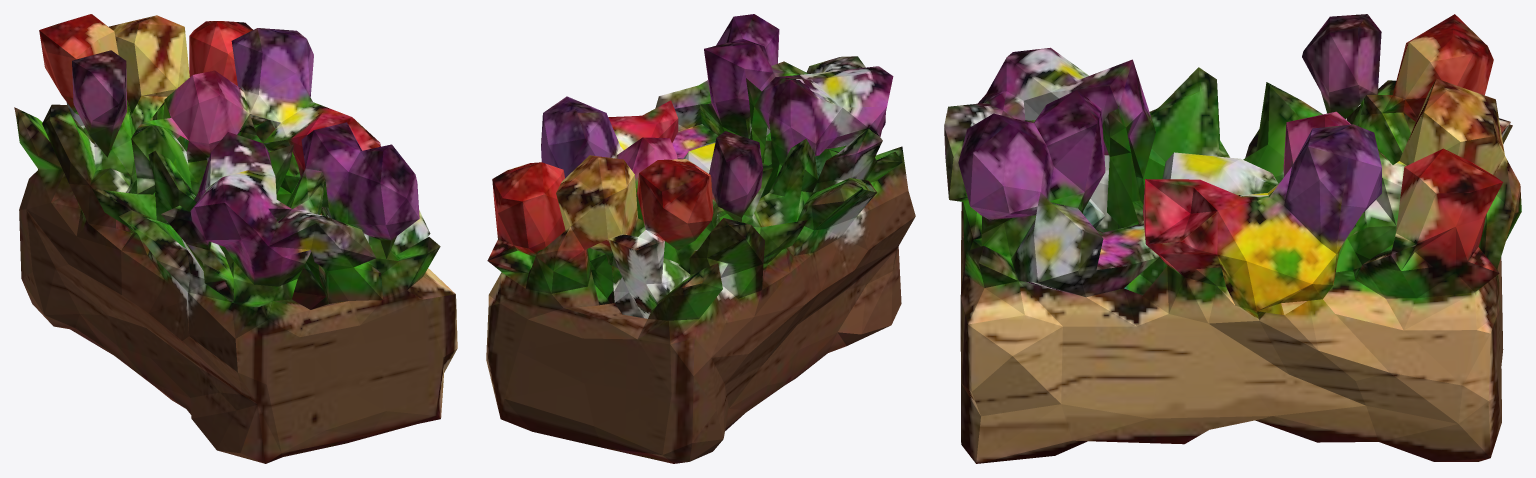
Rendered from cicek_tarhi.glb.
The picture shows the model from 3 angles, left to right: view 1: azimuth 30°, elevation 25°; view 2: azimuth 150°, elevation 25°; view 3: azimuth 270°, elevation 25°; orthographic projection. The views are drawn at different scales.
Visible parts, largest first — view 1: geometry_0; view 2: geometry_0; view 3: geometry_0.
Part boxes in pixels (x1,y1,x2,y2): geometry_0: [14, 14, 457, 463]; geometry_0: [486, 14, 915, 463]; geometry_0: [944, 14, 1521, 463].
Size of the model in its own units: 0.6277 by 0.676 by 1.02.
1 material, 1 textured.
